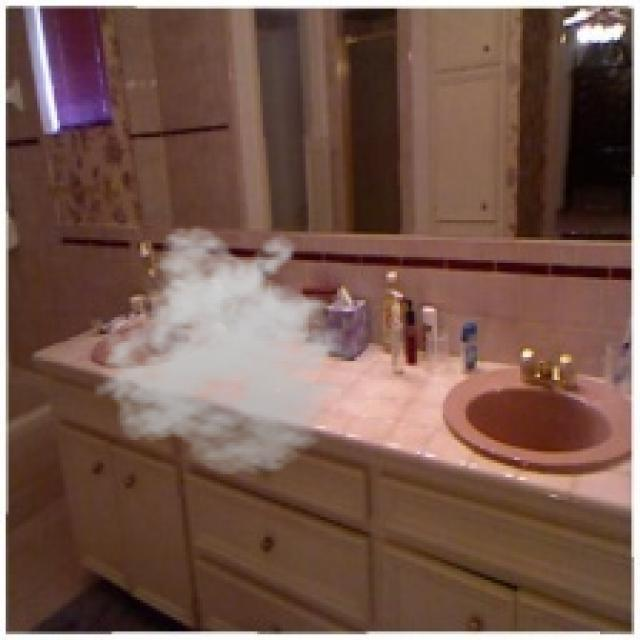Smoke: (92, 222, 374, 478)
